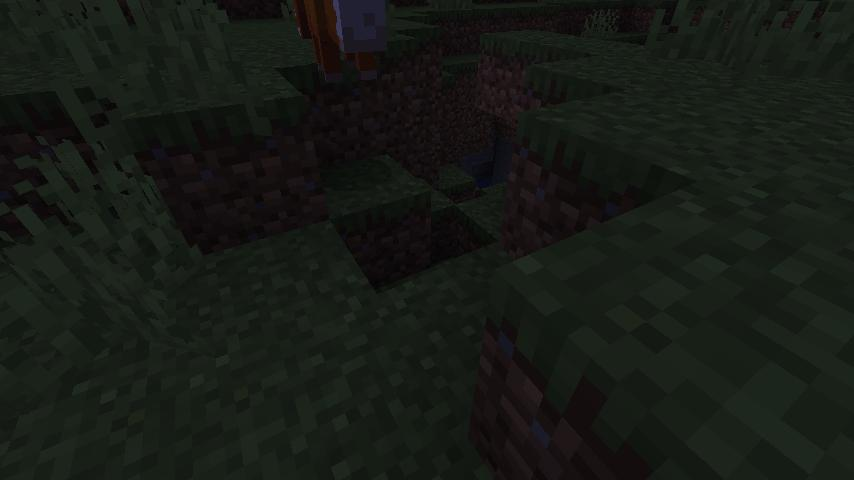fox: (289, 0, 395, 89)
